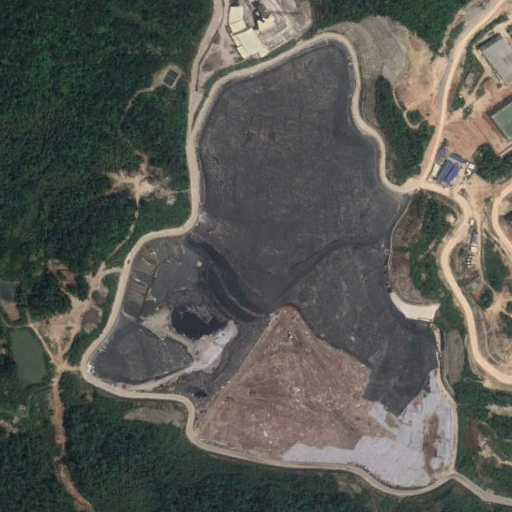lf: (83, 38, 462, 491)
